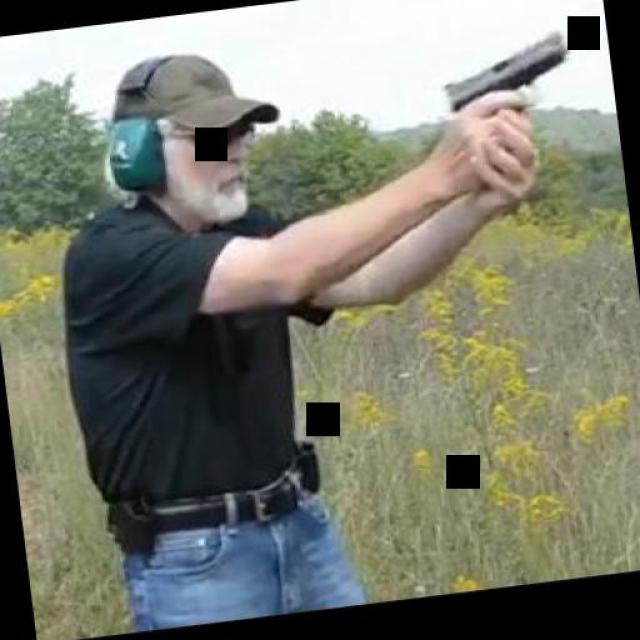gun: (430, 25, 586, 197)
